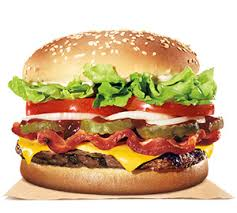hamburger: (11, 29, 225, 194)
